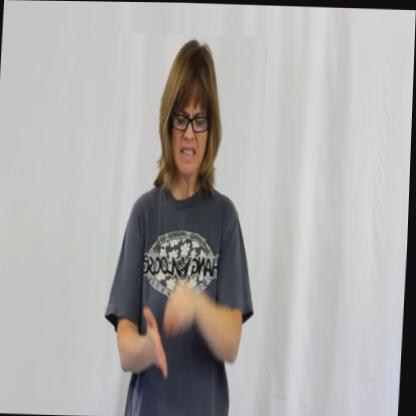Expensive: (101, 31, 268, 416)
